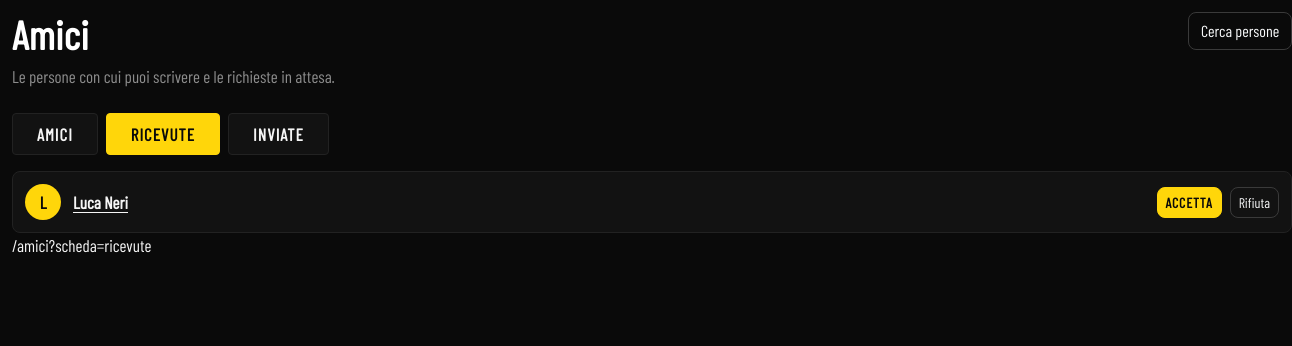
Test: FriendsPage · azioni › accettare una richiesta la toglie da «Ricevute» dopo il ricaricamento
The width and height of the screenshot is (1292, 346).
Click the button "Accetta" at x=1189, y=202, box [1157,187,1222,218]
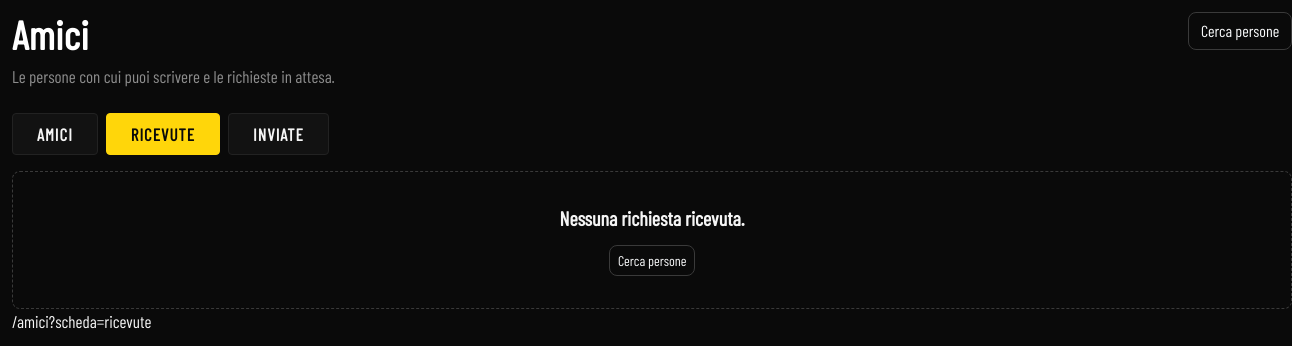
Check: the text "Nessuna richiesta ricevuta." is shown, box [560,206,744,230]
Check: the link "Luca Neri" is gone
